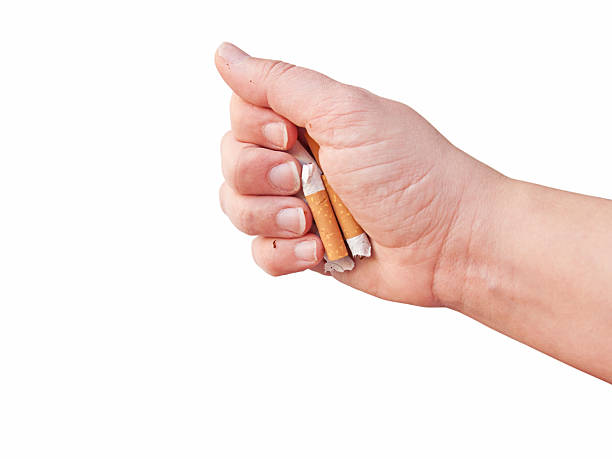cigarette: (298, 161, 348, 262), (319, 171, 373, 261), (287, 139, 323, 171), (302, 129, 324, 173)
